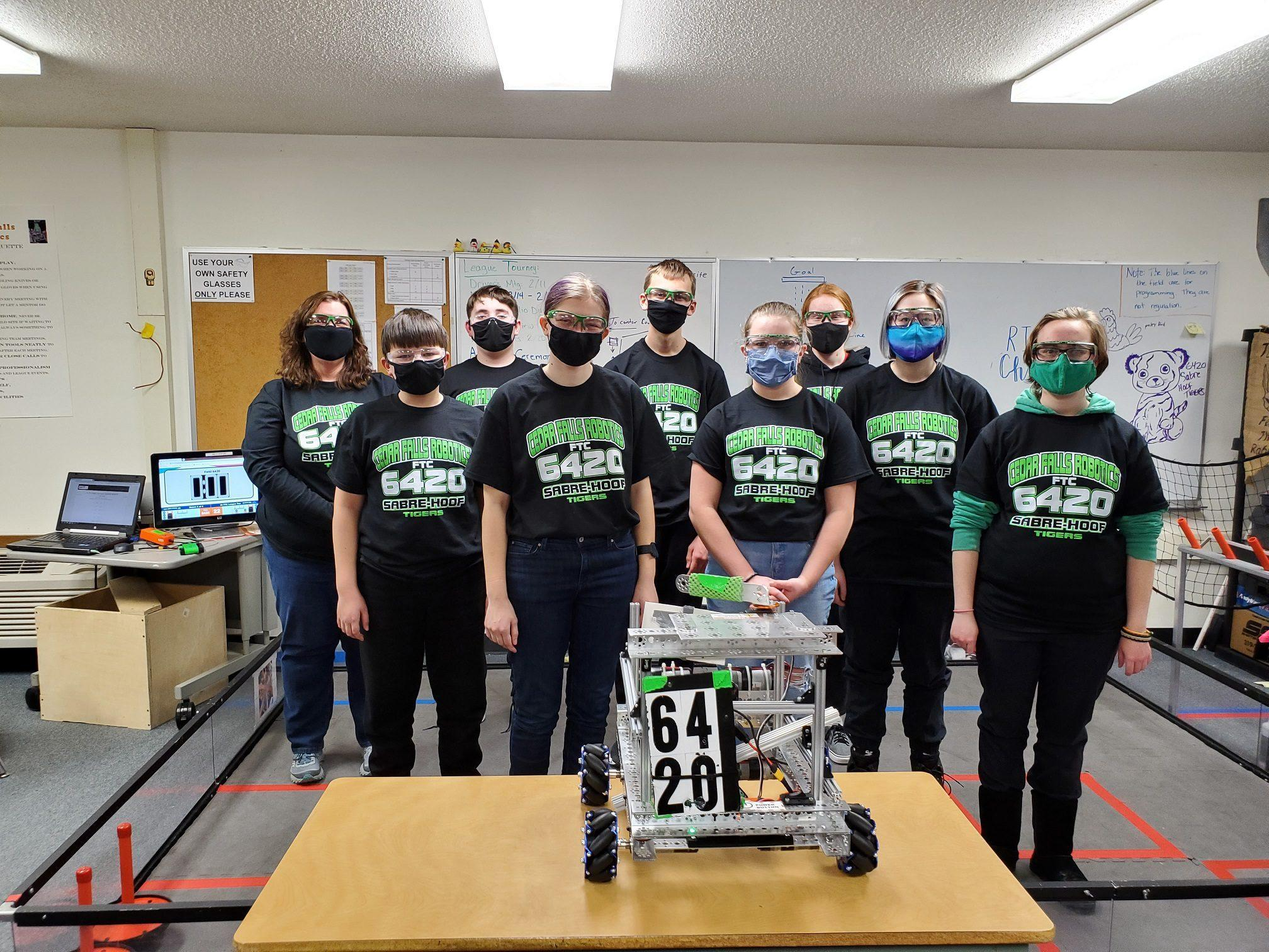robot: (563, 563, 899, 887)
